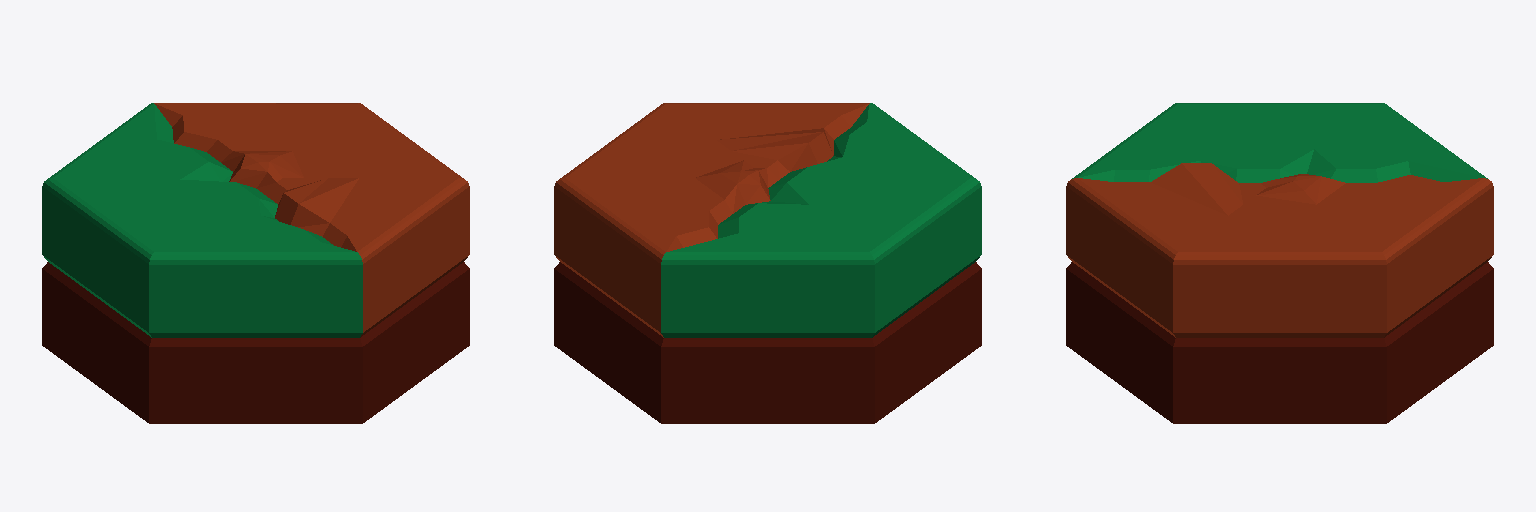
File: hex_forest_transitionA.obj
3 renders of one model, left to right at view 1: azimuth 30°, elevation 25°; view 2: azimuth 150°, elevation 25°; view 3: azimuth 270°, elevation 25°, orthographic.
Visible parts, largest first — view 1: hex_forest_transitionA_Cylinder.815; view 2: hex_forest_transitionA_Cylinder.815; view 3: hex_forest_transitionA_Cylinder.815.
Part boxes in pixels (x1,y1,x2,y2): hex_forest_transitionA_Cylinder.815: (42,103,469,423); hex_forest_transitionA_Cylinder.815: (554,103,981,423); hex_forest_transitionA_Cylinder.815: (1066,103,1493,423).
Size of the model in its own units: 2 by 1.07 by 2.31.